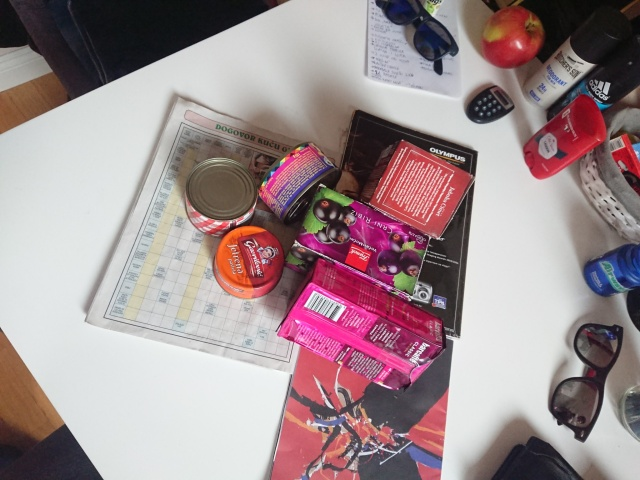Barcaffe Classic Original 225g: (273, 256, 449, 394)
Franck Apple Cinnamon Tea 60g: (355, 136, 479, 243)
Franck Black Currant Tea 60g: (278, 180, 434, 315)
Gavrilovic Pork Liver Pate 100g: (210, 223, 287, 301)
Giana Tuna Salad Mexico 185g: (254, 140, 344, 228)
Podravka Luncheon Meat 150g: (182, 155, 261, 239)
